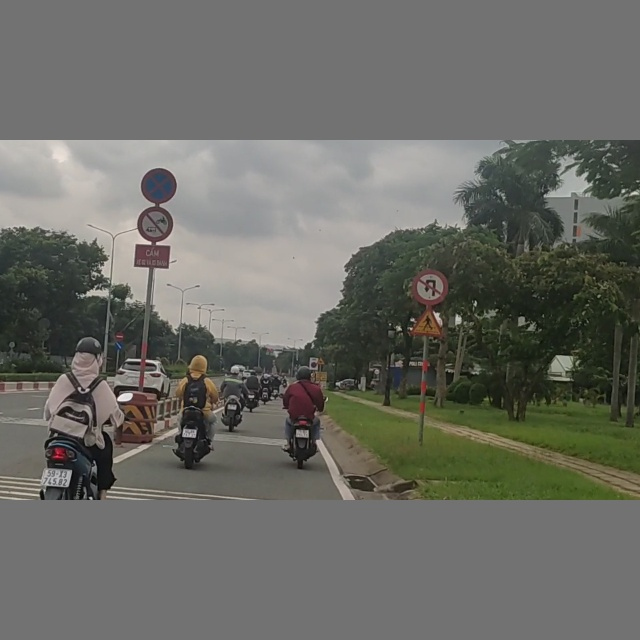P.102: (115, 331, 126, 341)
P.111: (137, 206, 173, 241)
P.124a*: (412, 269, 448, 305)
P.130: (141, 168, 177, 203)
R.302a: (115, 341, 124, 351)
W.224: (412, 306, 443, 338)
